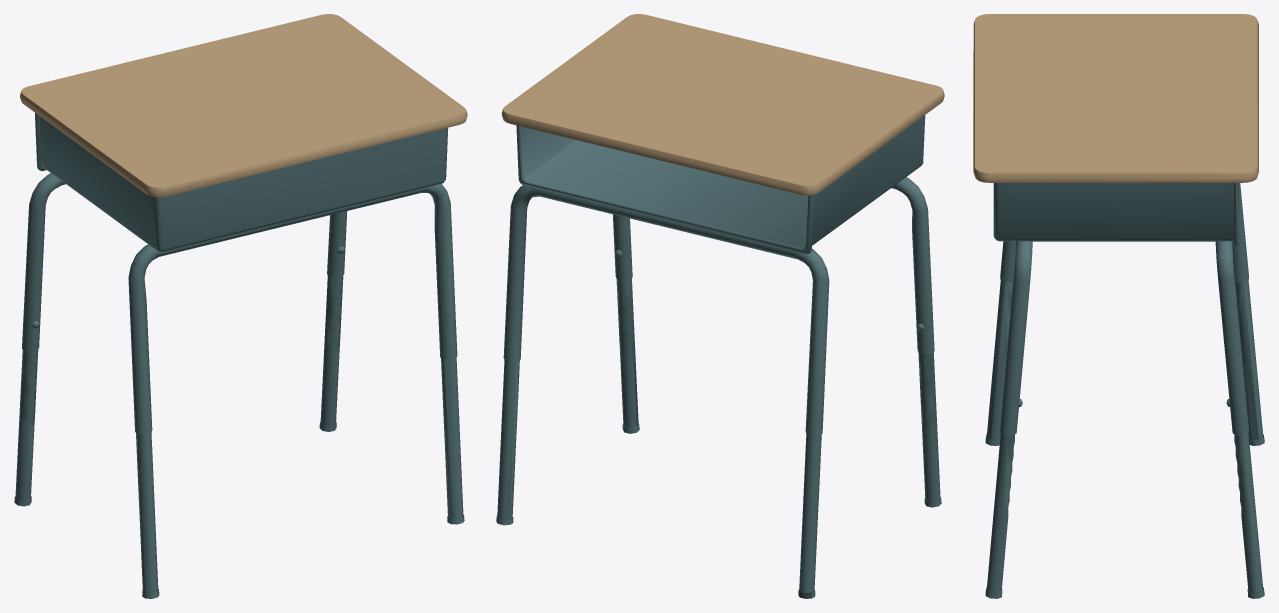
Rendered from school-desk.glb.
The picture shows the model from 3 angles, left to right: view 1: azimuth 30°, elevation 25°; view 2: azimuth 150°, elevation 25°; view 3: azimuth 270°, elevation 25°; orthographic projection. The views are drawn at different scales.
Visible parts, largest first — view 1: SchoolDesk_01; view 2: SchoolDesk_01; view 3: SchoolDesk_01.
Part boxes in pixels (x1,y1,x2,y2): SchoolDesk_01: (14,14,467,598); SchoolDesk_01: (496,14,944,598); SchoolDesk_01: (973,14,1264,598).
Size of the model in its own units: 0.7128 by 0.8822 by 0.5467.
